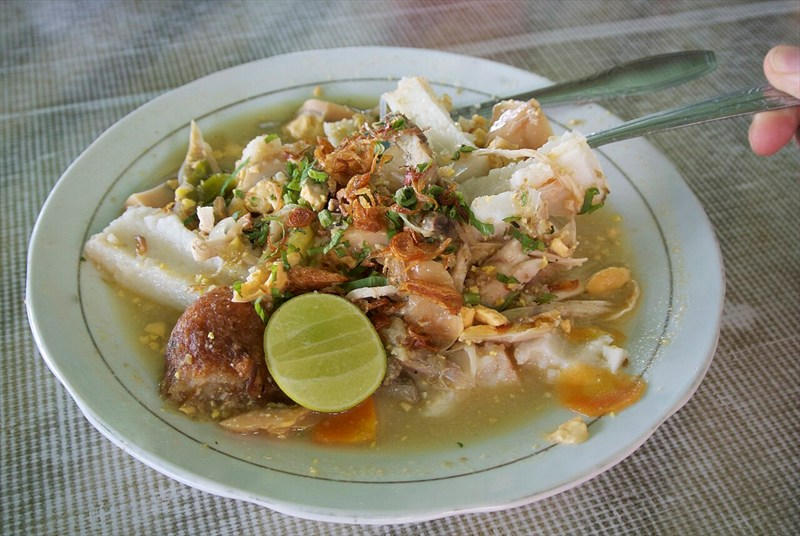Soto Ayam: (147, 97, 613, 430)
